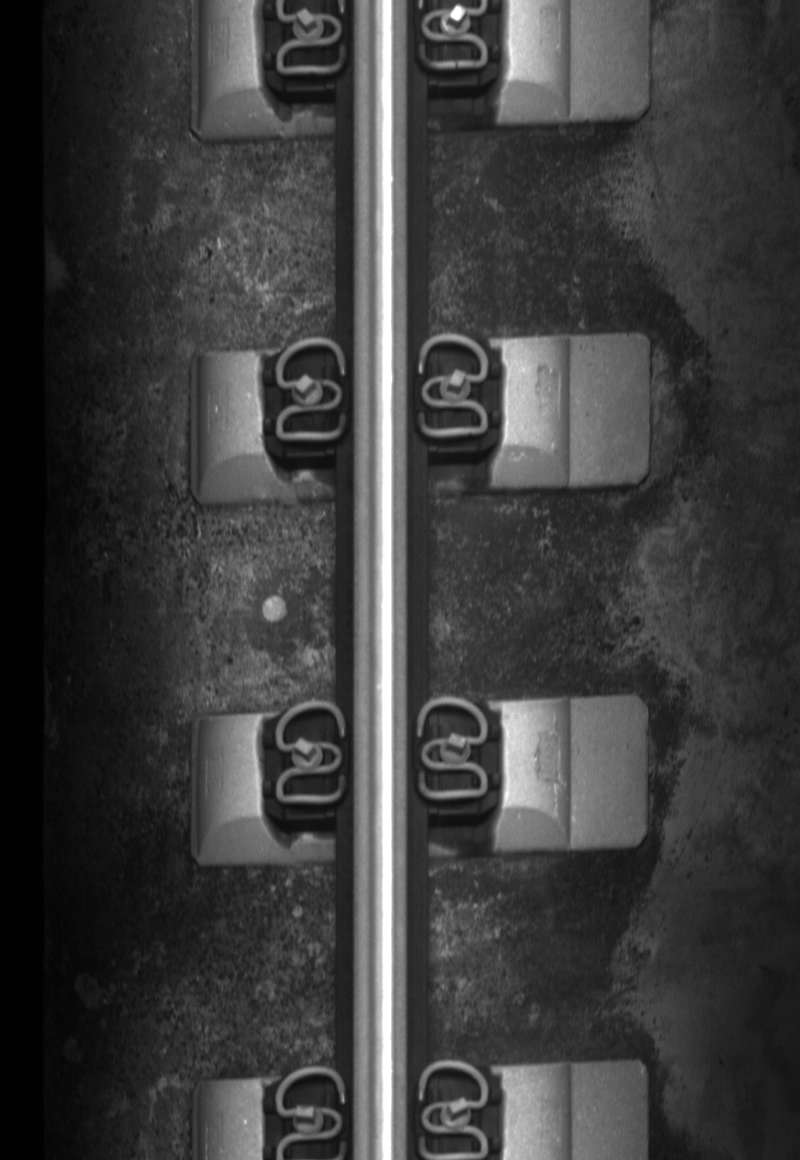l_faster: (269, 694, 351, 811), (271, 333, 351, 448)
r_faster: (409, 693, 497, 808), (409, 332, 497, 445)
